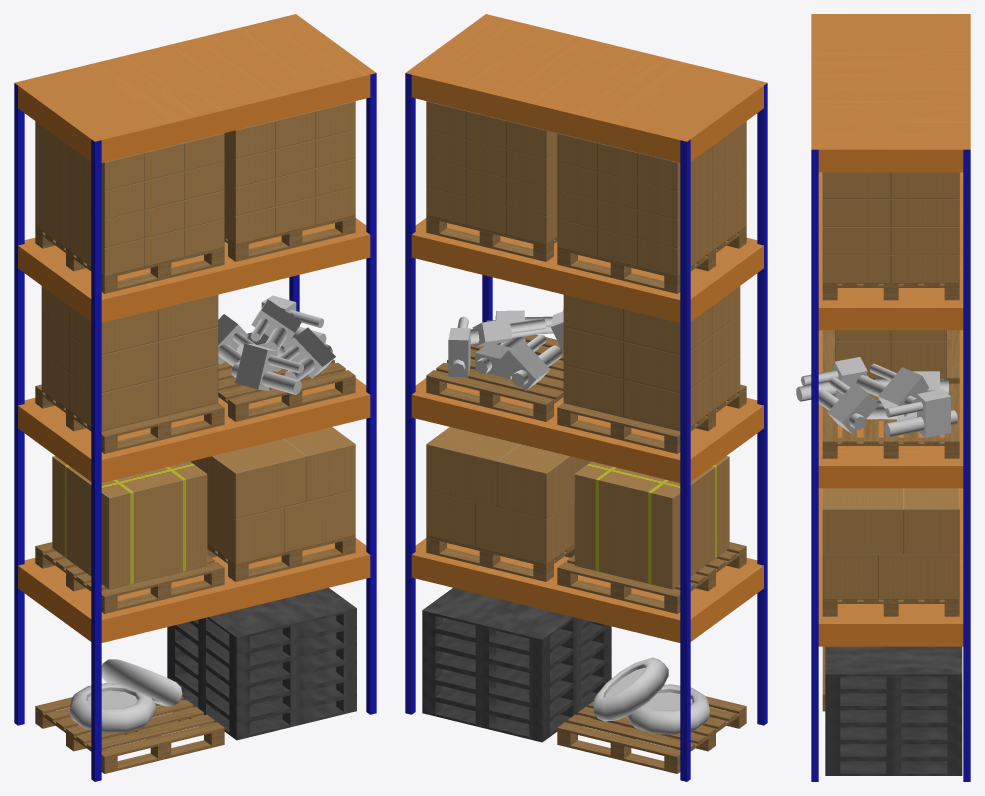
Rendered from Shelf_groupA.fbx.
3 views of the same model, side by side, from view 1: azimuth 30°, elevation 25°; view 2: azimuth 150°, elevation 25°; view 3: azimuth 270°, elevation 25° (orthographic).
Parts seen in each view (by area): view 1: pCube501, Pallet_Wood10, Pallet_Pra7, pCube1140, pCube1090, pCube1130, pCube1250, pCube1120, leg0, body20, body0, body10; view 2: pCube501, Pallet_Wood10, Pallet_Pra7, pCube1140, pCube1090, pCube1130, pCube1250, pCube1120, leg0, body10, body20, body0; view 3: pCube501, Pallet_Pra7, pCube1130, pCube1120, Pallet_Wood10, body0, pCube1090, body20, body10.
Boxes of the visible parts, bbox=[...] form: pCube501: bbox=[14, 14, 376, 781]; Pallet_Wood10: bbox=[35, 215, 355, 773]; Pallet_Pra7: bbox=[167, 588, 356, 740]; pCube1140: bbox=[35, 121, 224, 276]; pCube1090: bbox=[41, 286, 218, 431]; pCube1130: bbox=[190, 427, 355, 564]; pCube1250: bbox=[52, 456, 207, 589]; pCube1120: bbox=[224, 101, 355, 244]; leg0: bbox=[70, 659, 182, 732]; body20: bbox=[231, 299, 303, 394]; body0: bbox=[261, 295, 335, 380]; body10: bbox=[218, 314, 294, 371]; pCube501: bbox=[405, 14, 767, 781]; Pallet_Wood10: bbox=[426, 215, 746, 773]; Pallet_Pra7: bbox=[422, 588, 611, 742]; pCube1140: bbox=[557, 121, 746, 276]; pCube1090: bbox=[563, 286, 740, 431]; pCube1130: bbox=[426, 427, 591, 564]; pCube1250: bbox=[574, 456, 729, 589]; pCube1120: bbox=[426, 101, 557, 244]; leg0: bbox=[593, 657, 709, 734]; body10: bbox=[475, 334, 562, 391]; body20: bbox=[470, 309, 563, 352]; body0: bbox=[448, 310, 553, 377]; pCube501: bbox=[811, 14, 970, 781]; Pallet_Pra7: bbox=[825, 646, 962, 775]; pCube1130: bbox=[822, 488, 959, 599]; pCube1120: bbox=[822, 172, 959, 283]; Pallet_Wood10: bbox=[822, 283, 959, 711]; body0: bbox=[818, 377, 957, 437]; pCube1090: bbox=[835, 330, 946, 378]; body20: bbox=[796, 357, 928, 416]; body10: bbox=[866, 371, 948, 421].
Size of the model in its own units: 258 by 560 by 140.
